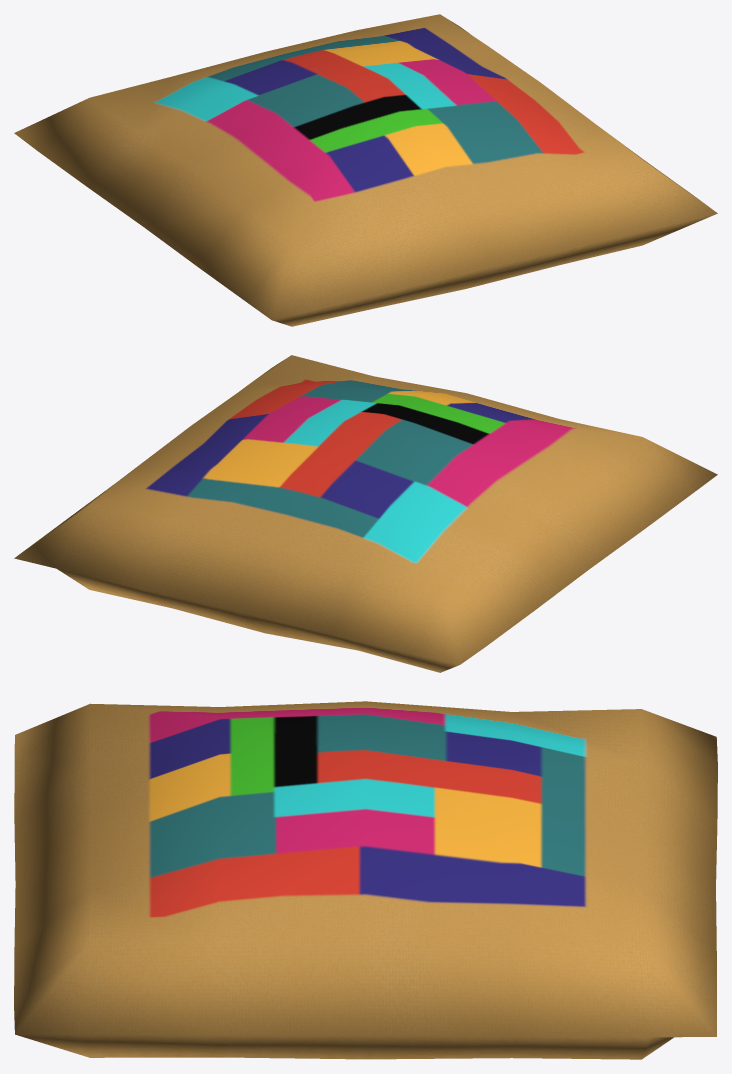
Rendered from cushion.fbx.
3 views of the same model, one above another, from view 1: azimuth 30°, elevation 25°; view 2: azimuth 150°, elevation 25°; view 3: azimuth 270°, elevation 25° (orthographic). The views are drawn at different scales.
Visible parts, largest first — view 1: cushion.001; view 2: cushion.001; view 3: cushion.001.
Boxes of the visible parts, x1,y1,x2,y2 form: cushion.001: [14, 14, 717, 326]; cushion.001: [14, 355, 717, 672]; cushion.001: [14, 701, 717, 1059].
Size of the model in its own units: 72.17 by 22.98 by 72.2.
